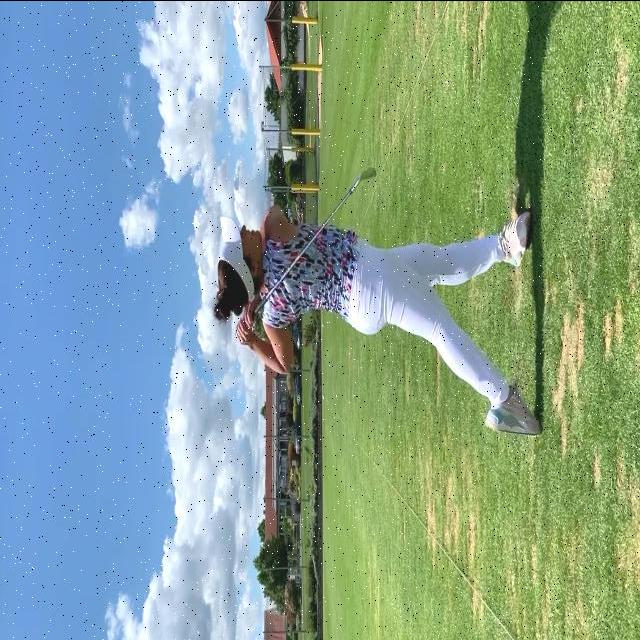golf club-handle: (252, 166, 377, 316)
golf club-head: (358, 165, 377, 182)
